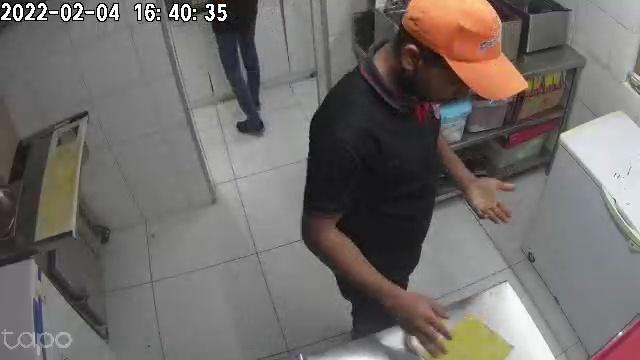no_gloves: (461, 169, 514, 224)
